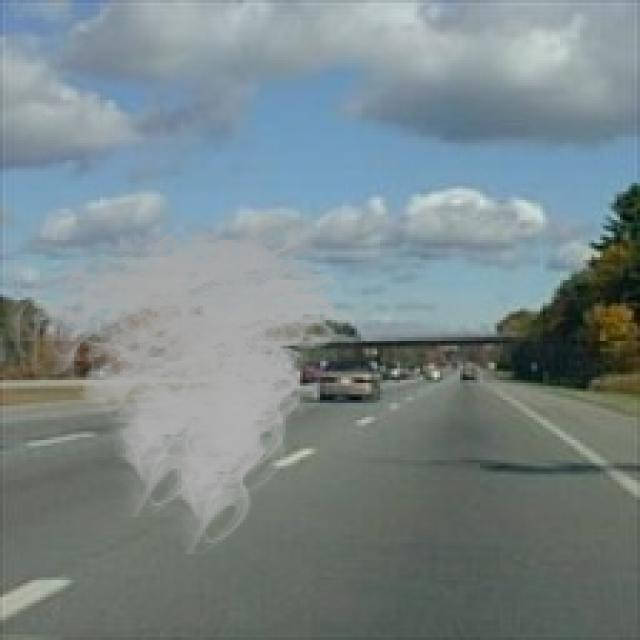smoke: (0, 195, 369, 554)
